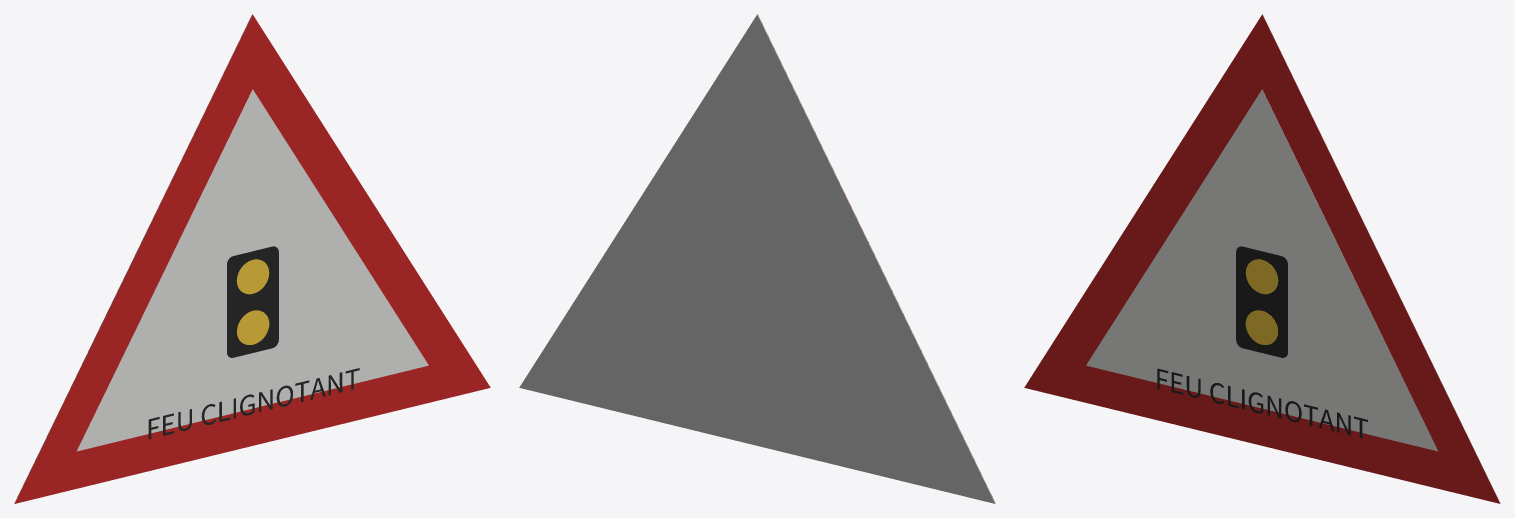
Rendered from A8bis.glb.
3 renders of one model, left to right at view 1: azimuth 30°, elevation 25°; view 2: azimuth 150°, elevation 25°; view 3: azimuth 330°, elevation 25°, orthographic.
Visible parts, largest first — view 1: A8bis_p01, A8bis_p00, A8bis_r02, A8bis_txt05, A8bis_d03, A8bis_d04, A8bis_dos; view 2: A8bis_dos; view 3: A8bis_p01, A8bis_p00, A8bis_r02, A8bis_txt05, A8bis_d03, A8bis_d04, A8bis_dos.
Part boxes in pixels (left/top/right/bottom): A8bis_p01: left=76, top=89, right=428, bottom=451; A8bis_p00: left=14, top=14, right=490, bottom=503; A8bis_r02: left=227, top=246, right=278, bottom=357; A8bis_txt05: left=148, top=368, right=359, bottom=439; A8bis_d03: left=236, top=259, right=269, bottom=294; A8bis_d04: left=237, top=310, right=269, bottom=344; A8bis_dos: left=14, top=14, right=252, bottom=503; A8bis_dos: left=519, top=14, right=995, bottom=503; A8bis_p01: left=1086, top=89, right=1438, bottom=451; A8bis_p00: left=1024, top=14, right=1500, bottom=503; A8bis_r02: left=1236, top=246, right=1287, bottom=357; A8bis_txt05: left=1157, top=368, right=1367, bottom=438; A8bis_d03: left=1245, top=259, right=1278, bottom=294; A8bis_d04: left=1245, top=310, right=1277, bottom=344; A8bis_dos: left=1262, top=14, right=1500, bottom=503.
Size of the model in its own units: 1 by 0.866 by 0.0037.
